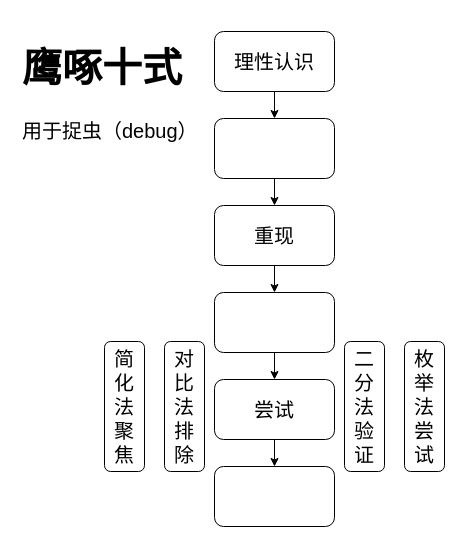
Some shapes in this 462 by 544 pixel diagram are drawn without their labels. Each missing label, with the centre of its shape:
"感性认识" goes at [274,148].
"搭环境" goes at [274,496].
"解决方案" goes at [274,322].
